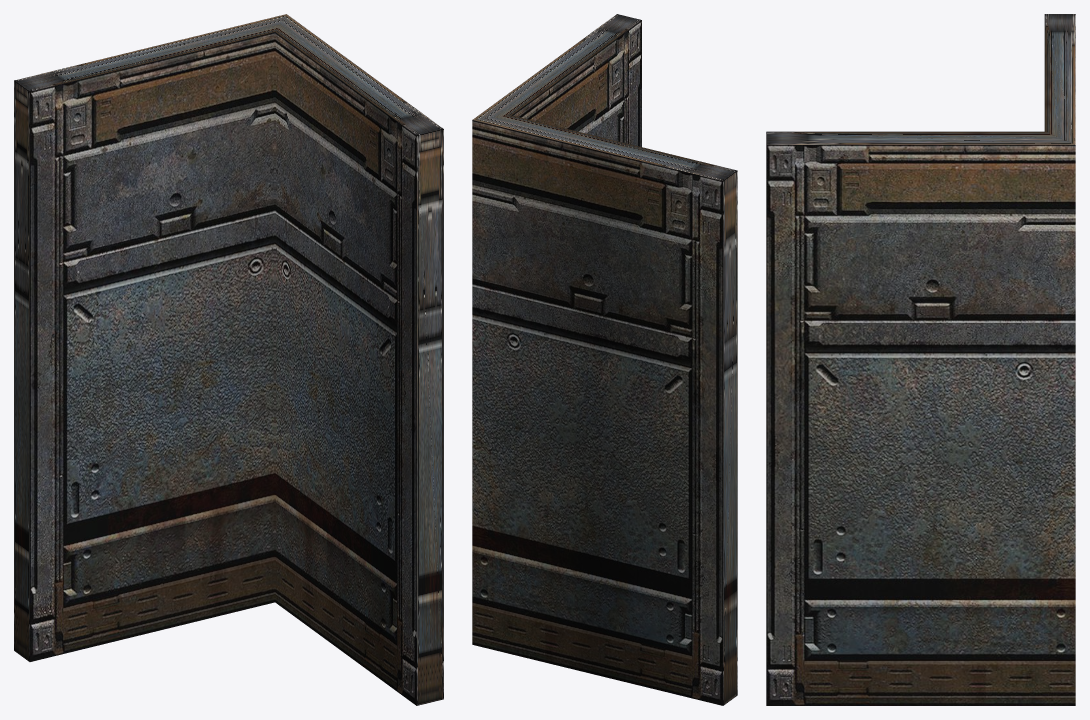
File: corner_wall_peice.FBX
The picture shows the model from 3 angles, left to right: view 1: azimuth 30°, elevation 25°; view 2: azimuth 150°, elevation 25°; view 3: azimuth 270°, elevation 25°; orthographic projection. The views are drawn at different scales.
Visible parts, largest first — view 1: corner_wall_peice; view 2: corner_wall_peice; view 3: corner_wall_peice.
Boxes of the visible parts, box(x1,y1,x2,y2) form: corner_wall_peice: box(14, 14, 443, 705); corner_wall_peice: box(472, 14, 737, 705); corner_wall_peice: box(766, 14, 1075, 705).
Size of what is drawn, in the model's own units: 200 by 200 by 400.
1 material, 1 textured.
